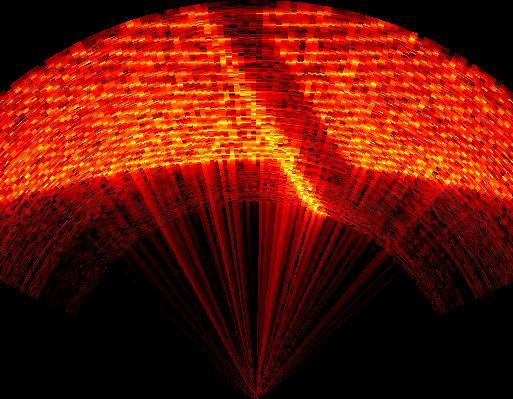pipe: (203, 0, 356, 203)
